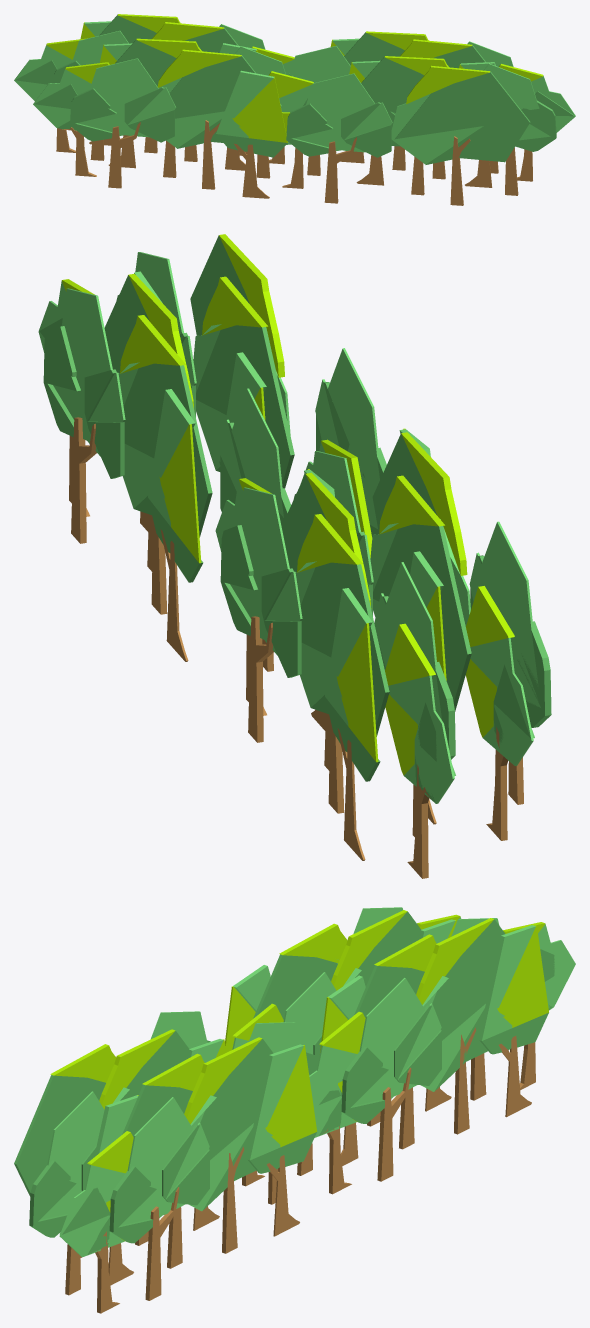
File: bosque.glb
3 renders of one model, top to bottom at view 1: azimuth 30°, elevation 25°; view 2: azimuth 150°, elevation 25°; view 3: azimuth 270°, elevation 25°, orthographic. The views are drawn at different scales.
Visible parts, largest first — view 1: Arboles_anchos; view 2: Arboles_anchos; view 3: Arboles_anchos.
Part boxes in pixels (<box>): Arboles_anchos: <box>14,14,575,205</box>; Arboles_anchos: <box>38,234,551,878</box>; Arboles_anchos: <box>14,907,575,1313</box>.
Bounding box in the file's own units: 3.97 × 1.31 × 3.37.
